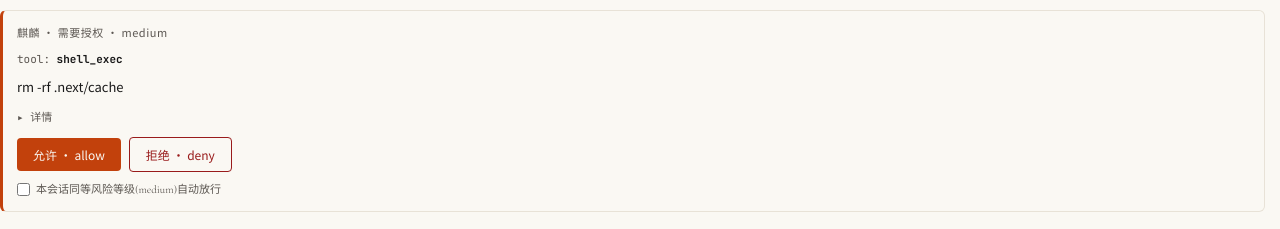
InlineApproval — Iter F 交互 primitives › deny posts user_decision with 'deny'
Click the button with test id "inline-approval-deny" at [180, 154], box left=129, top=137, right=232, bottom=172
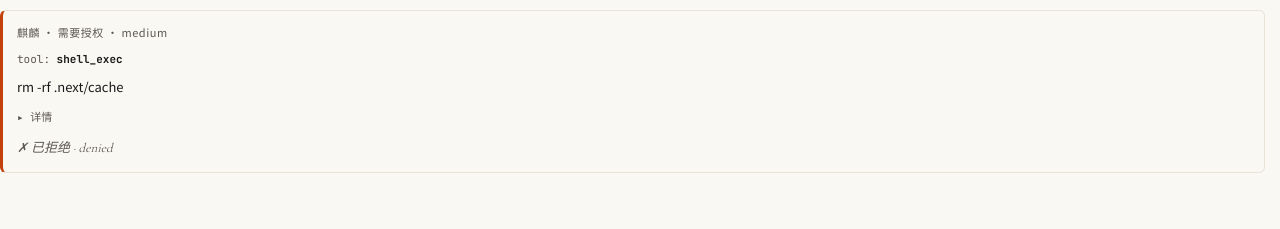
Expected: the text with test id "inline-approval-decided" shows "已拒绝", left=17, top=140, right=113, bottom=156
